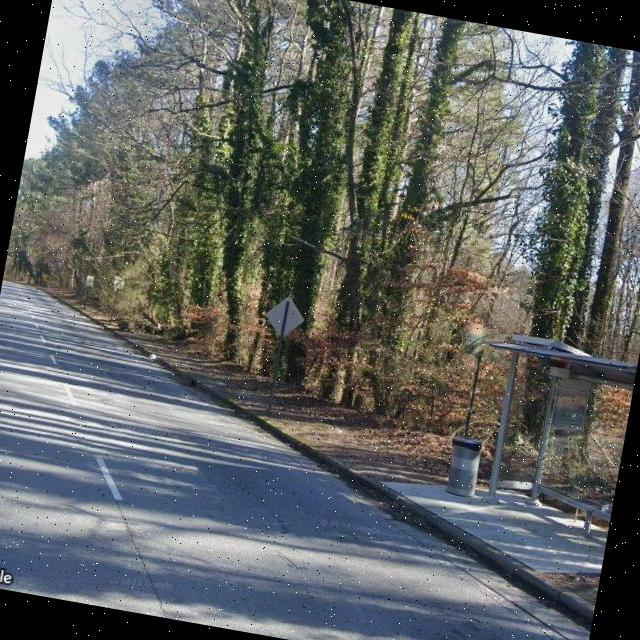seating: (557, 487, 614, 538)
shelter: (454, 326, 639, 543)
trash_can: (444, 434, 484, 498)
